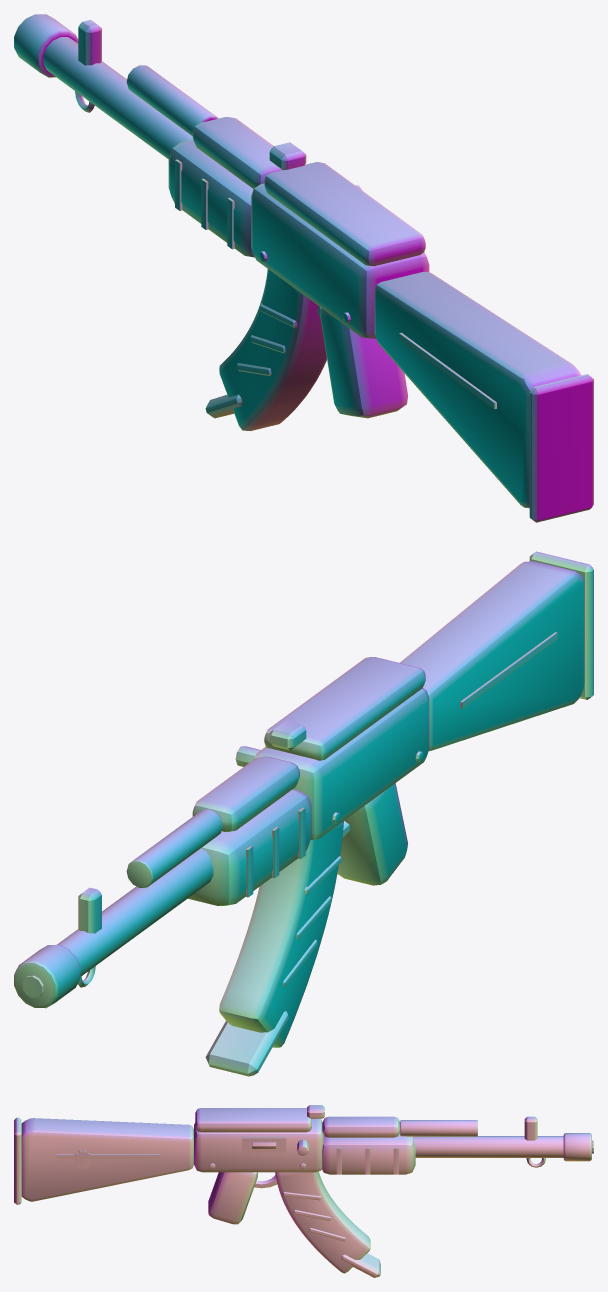
The model's file is wpn_ak47.glb.
The picture shows the model from 3 angles, top to bottom: view 1: azimuth 30°, elevation 25°; view 2: azimuth 150°, elevation 25°; view 3: azimuth 270°, elevation 25°; orthographic projection. The views are drawn at different scales.
Visible parts, largest first — view 1: wpn_ak47_mesh; view 2: wpn_ak47_mesh; view 3: wpn_ak47_mesh.
Part boxes in pixels (<box>): wpn_ak47_mesh: <box>14,14,593,522</box>; wpn_ak47_mesh: <box>14,551,593,1076</box>; wpn_ak47_mesh: <box>14,1105,593,1277</box>.
Size of the model in its own units: 0.0474 by 0.141 by 0.4475.
